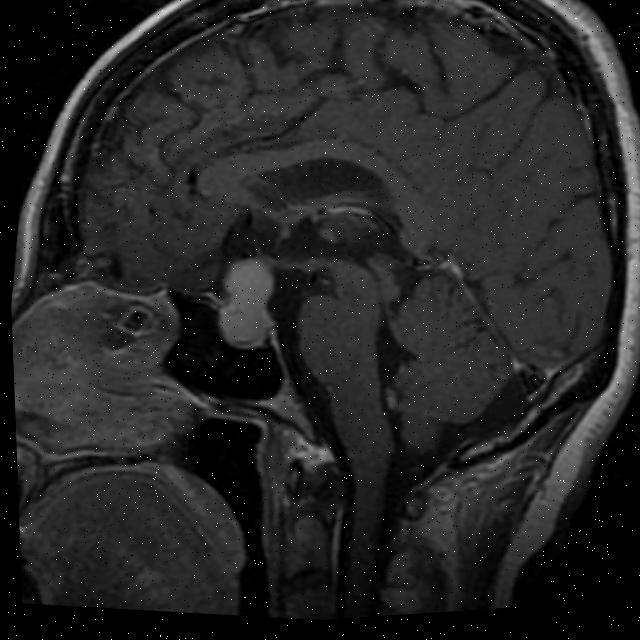Pituitary: (209, 253, 282, 356)
